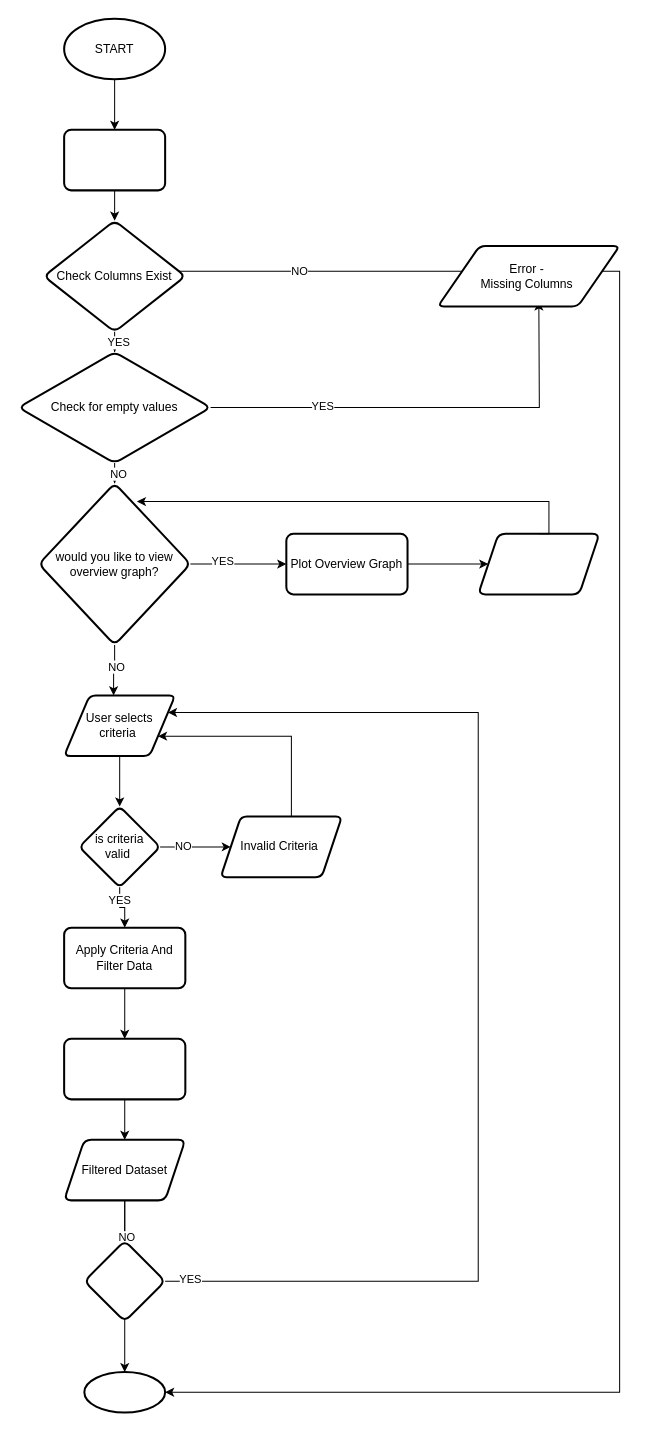
Some shapes in this 645 by 1430 pixel diagram are drawn without their labels. Each missing label, with the box of its shape:
END: (83, 1371, 166, 1413)
Load Task3_data.csv: (63, 128, 166, 191)
Overview Graph: (477, 532, 600, 595)
Process and group data by selected criteria.: (63, 1037, 186, 1100)
See more data: (83, 1239, 166, 1322)
